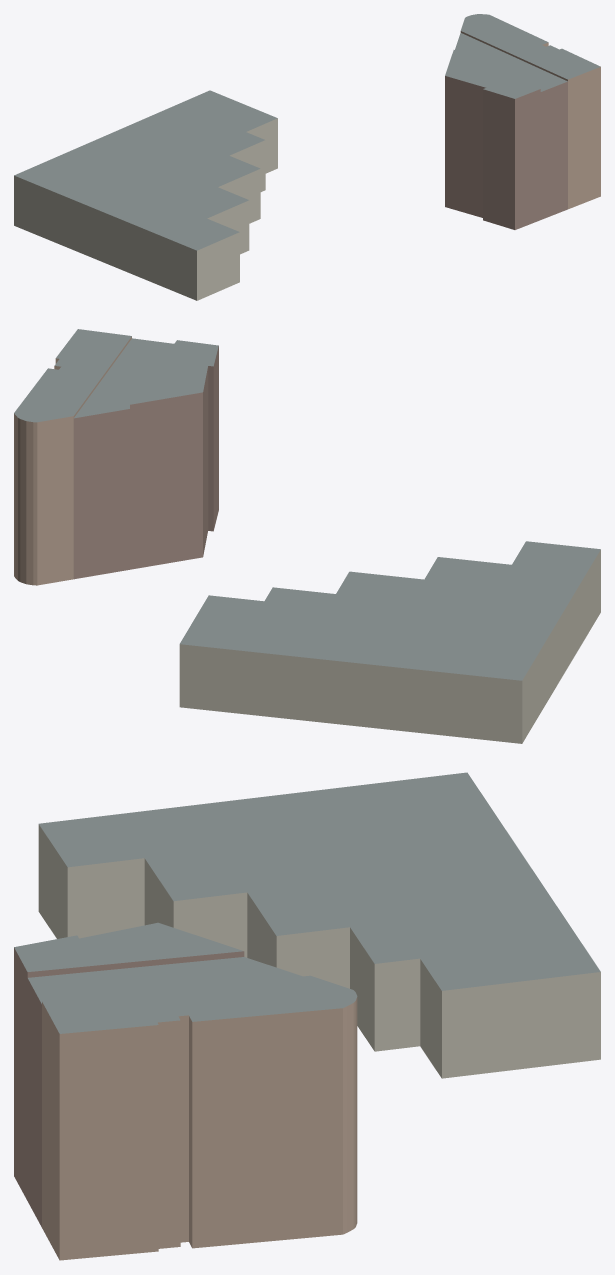
The model's file is context--1-1.gltf.
3 renders of one model, top to bottom at view 1: azimuth 30°, elevation 25°; view 2: azimuth 150°, elevation 25°; view 3: azimuth 270°, elevation 25°, orthographic. The views are drawn at different scales.
Visible parts, largest first — view 1: context--1-1; view 2: context--1-1; view 3: context--1-1.
Boxes of the visible parts, x1,y1,x2,y2 form: context--1-1: (14,14,600,300); context--1-1: (14,329,600,743); context--1-1: (14,772,600,1260).
Size of the model in its own units: 73.02 by 19.48 by 45.24.
